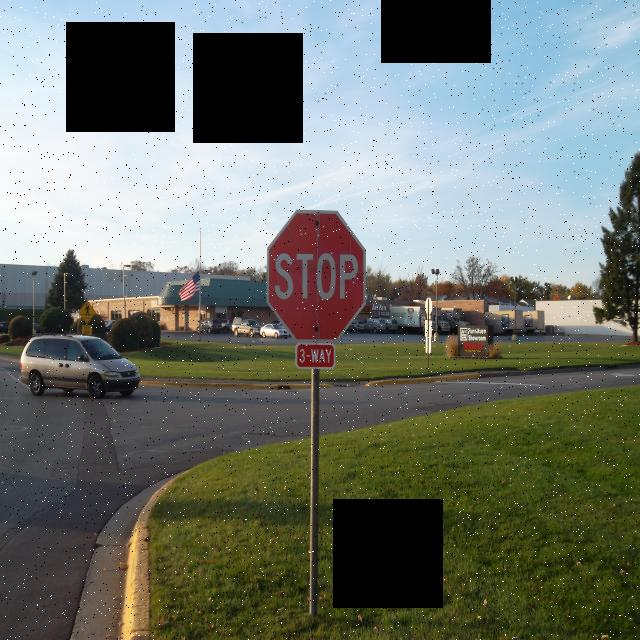regulatory: (294, 340, 335, 376)
stop: (258, 203, 372, 349)
